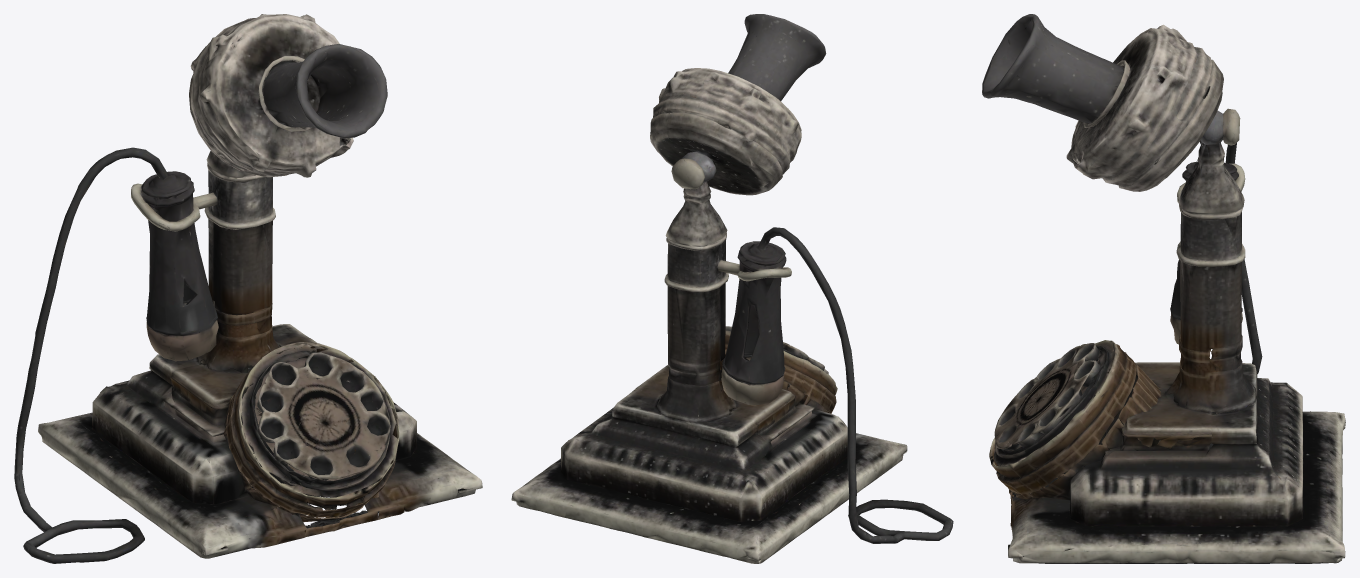
The model's file is refined.glb.
3 views of the same model, side by side, from view 1: azimuth 30°, elevation 25°; view 2: azimuth 150°, elevation 25°; view 3: azimuth 270°, elevation 25° (orthographic). The views are drawn at different scales.
Visible parts, largest first — view 1: world; view 2: world; view 3: world.
Part boxes in pixels (x1,y1,x2,y2): world: (14, 14, 482, 563); world: (511, 14, 953, 563); world: (982, 14, 1345, 563).
Bounding box in the file's own units: 0.8343 × 1 × 0.6724.
1 material, 1 textured.
